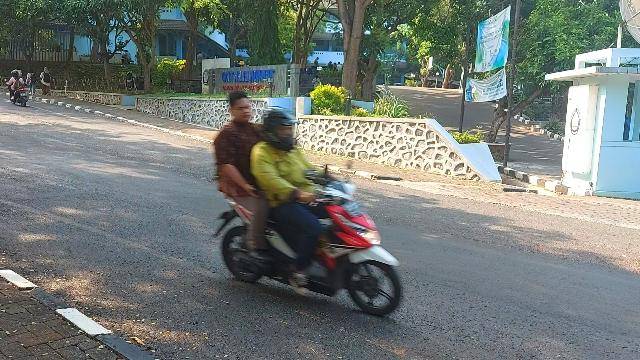helm: (265, 108, 301, 148)
motor: (215, 159, 404, 318)
non-helm: (230, 91, 253, 122)
